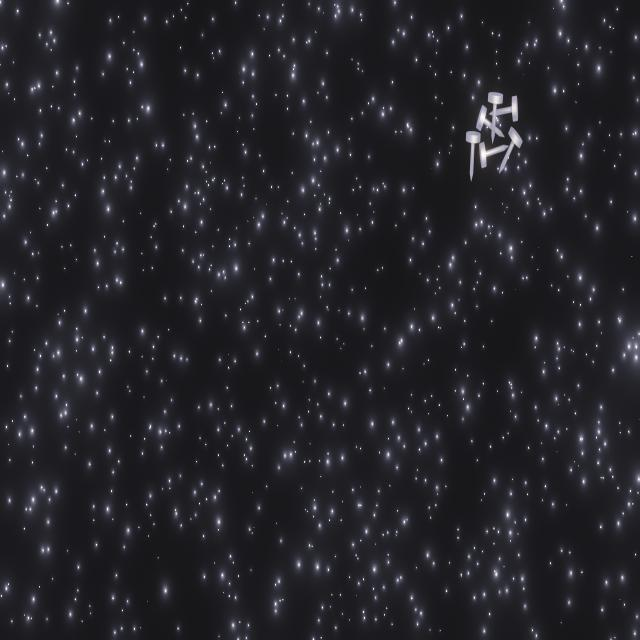large_debris: (464, 83, 526, 185)
